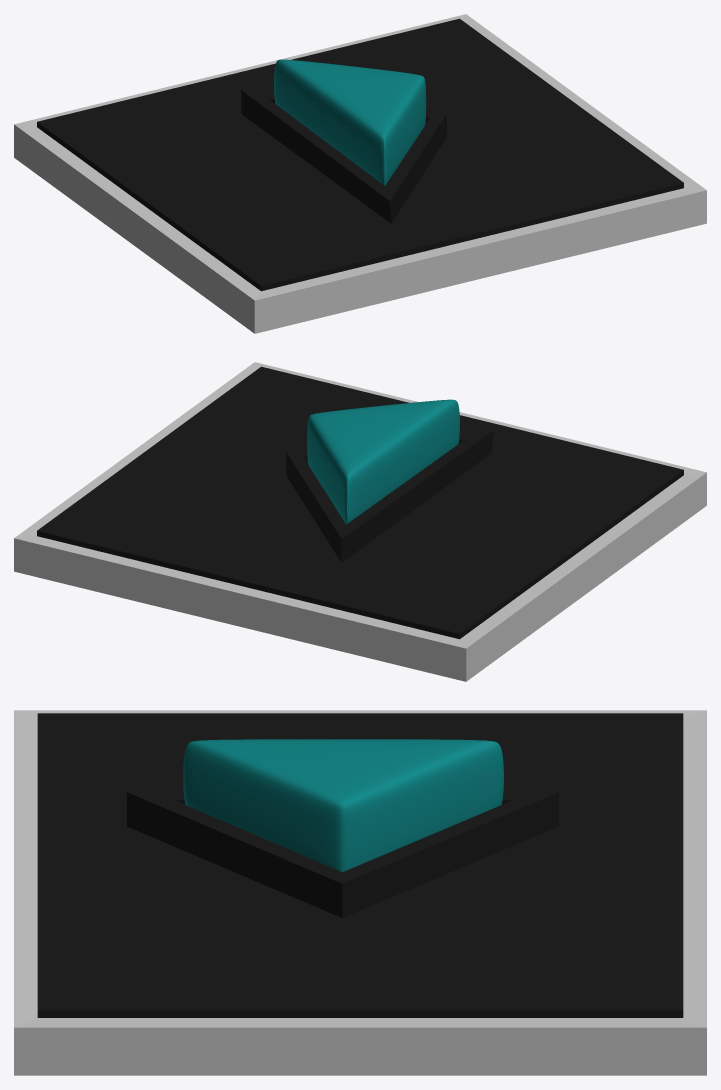
File: forCodeMorseV2.fbx
The picture shows the model from 3 angles, top to bottom: view 1: azimuth 30°, elevation 25°; view 2: azimuth 150°, elevation 25°; view 3: azimuth 270°, elevation 25°; orthographic projection. The views are drawn at different scales.
Parts seen in each view (by area): view 1: support, boutton, support_Boutton; view 2: support, boutton, support_Boutton; view 3: support, boutton, support_Boutton.
Part boxes in pixels (<box>): support: <box>14,14,706,333</box>; boutton: <box>274,59,426,185</box>; support_Boutton: <box>241,90,446,223</box>; support: <box>14,362,706,681</box>; boutton: <box>307,399,459,524</box>; support_Boutton: <box>286,430,493,562</box>; support: <box>14,710,706,1075</box>; boutton: <box>183,739,503,871</box>; support_Boutton: <box>127,792,558,917</box>.
Bounding box in the file's own units: 478 × 110 × 441.
1 material, 1 textured.
